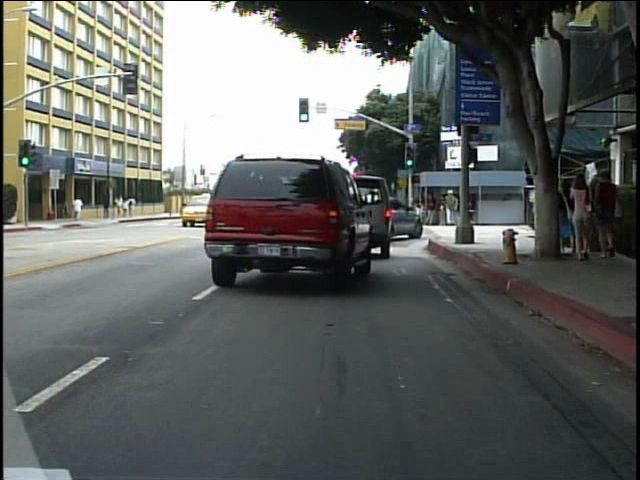person: (595, 166, 626, 263), (567, 173, 598, 264), (442, 188, 459, 229), (71, 194, 87, 225)
